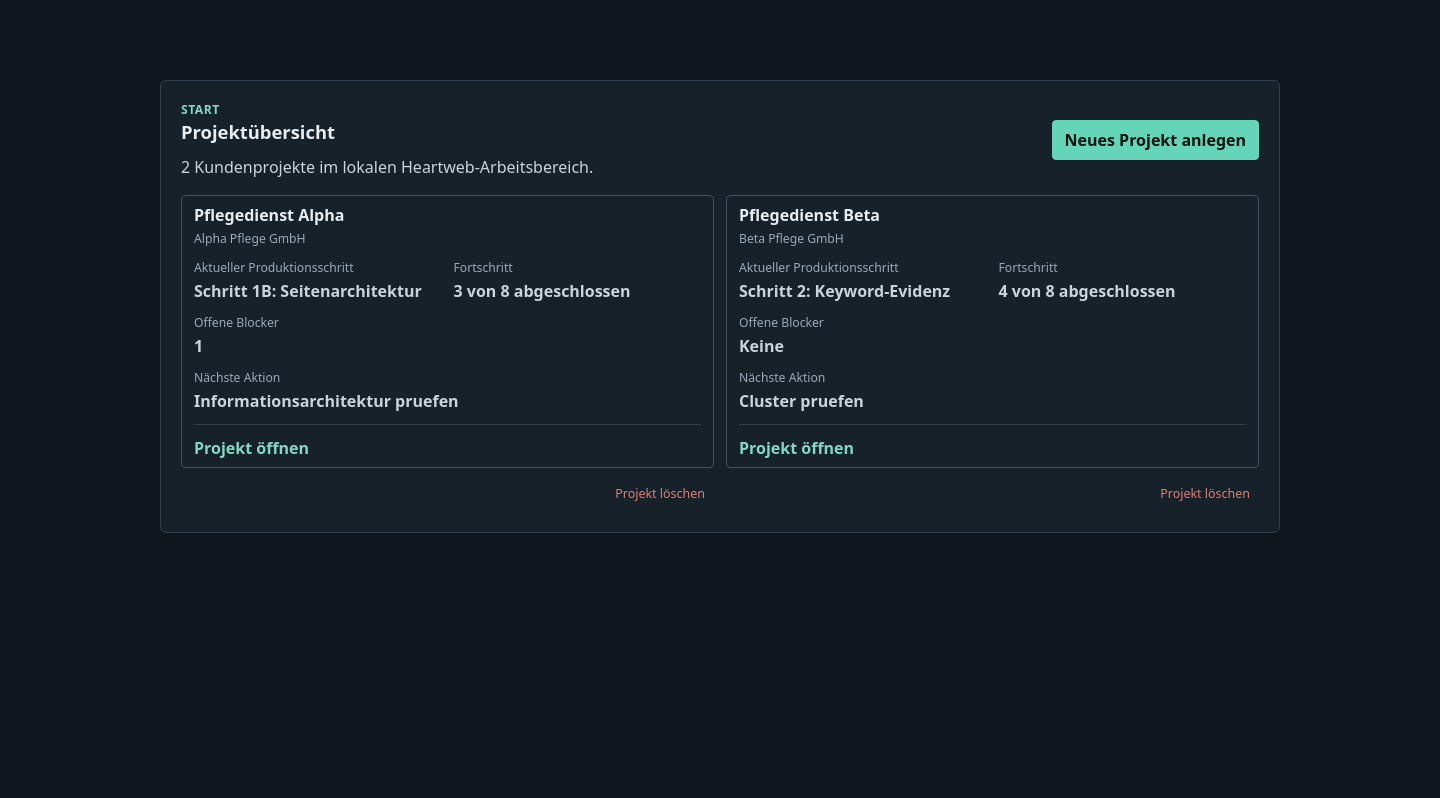
Operator workspace summary › resets workspace scroll synchronously before canonical project selection
Click the button with aria-label "Pflegedienst Alpha öffnen" at [269, 215], box [181,195,714,468]
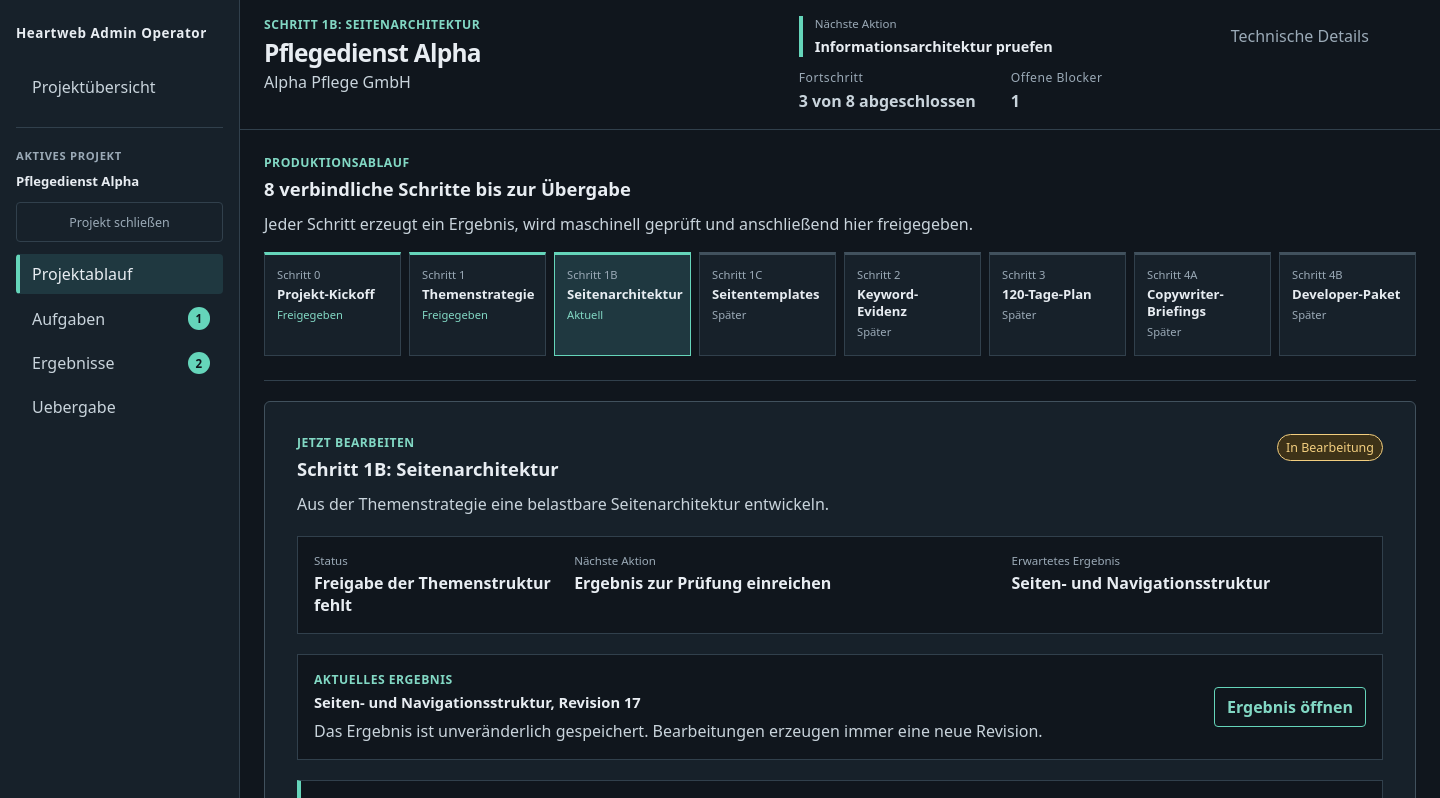
Check: the heading "Pflegedienst Alpha" is shown, box [264,36,481,69]
Click the button "Projektübersicht" at [120, 88], box [16,68,223,108]
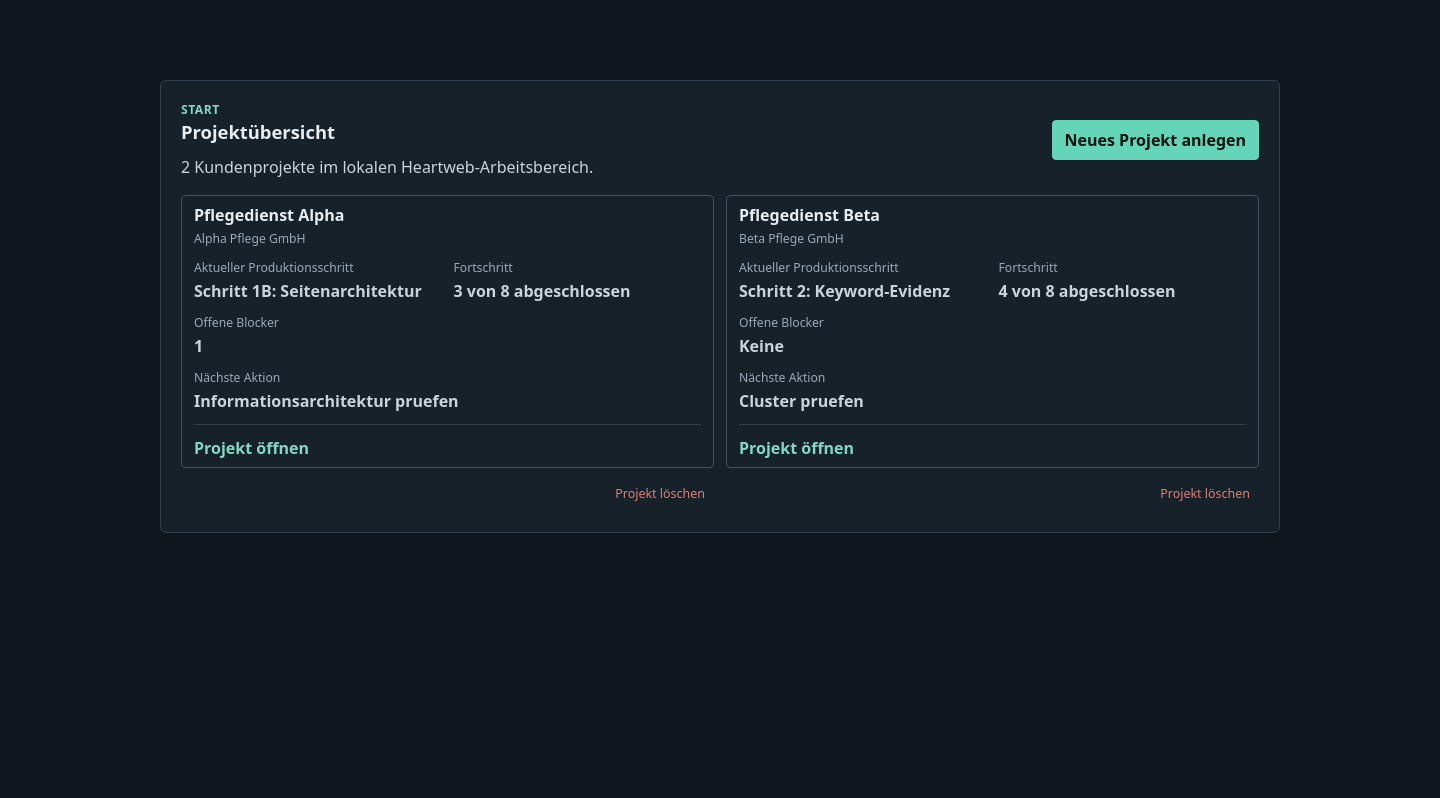
Check: the heading "Projektübersicht" is shown, box [181,119,335,144]
Click the button with aria-label "Pflegedienst Beta öffnen" at [810, 215], box [726,195,1259,468]
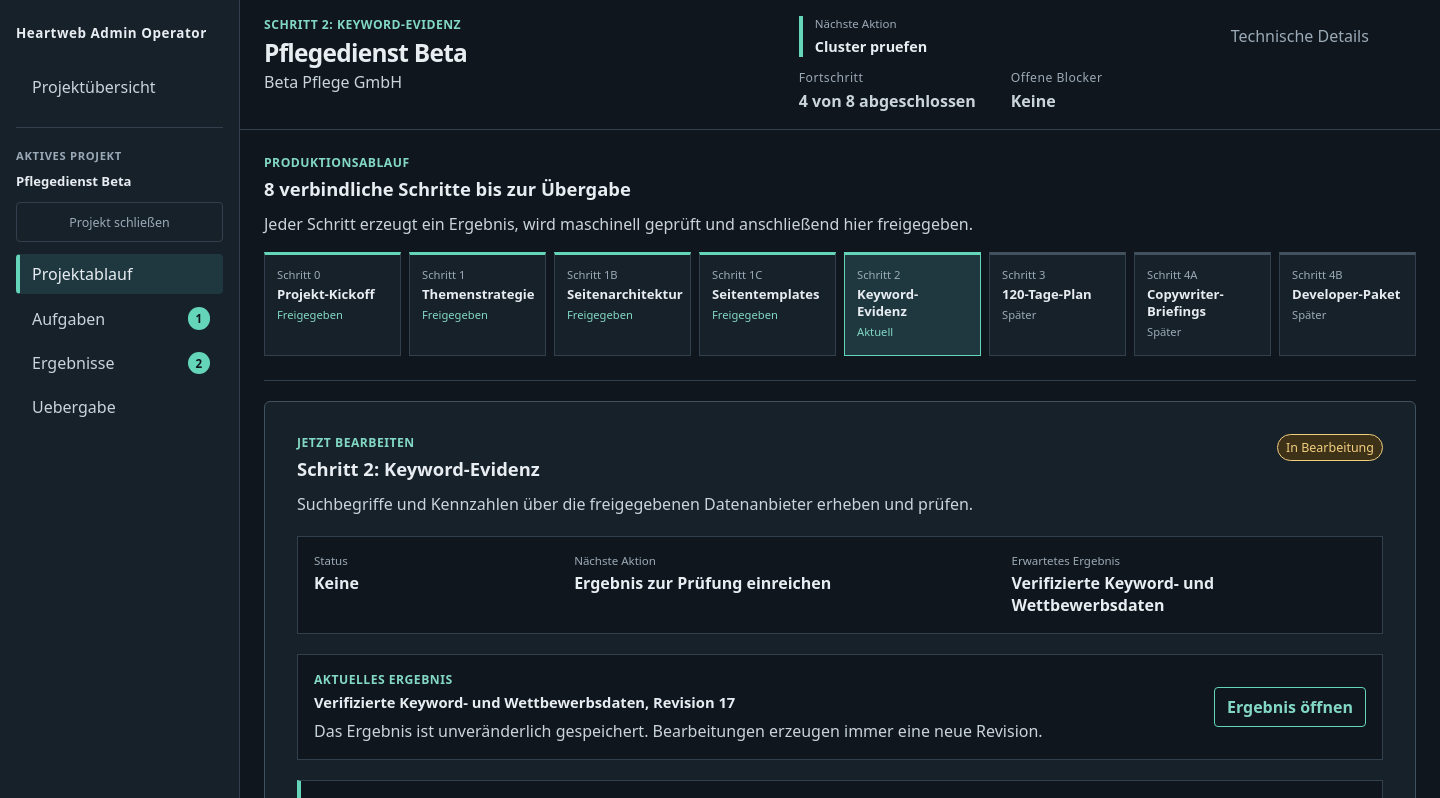
Check: the heading "Pflegedienst Beta" is shown, box [264,36,467,69]
